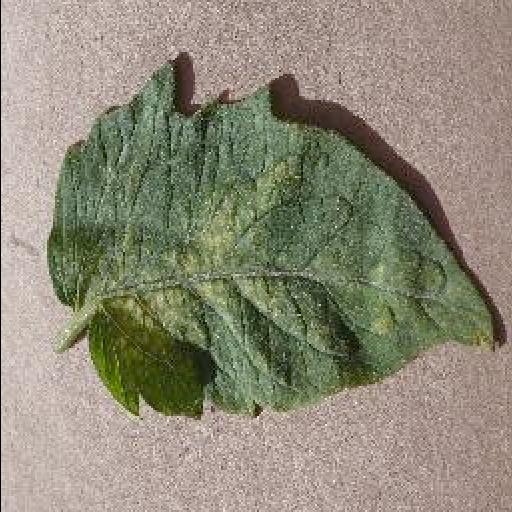disease_tomato: (46, 57, 498, 419)
